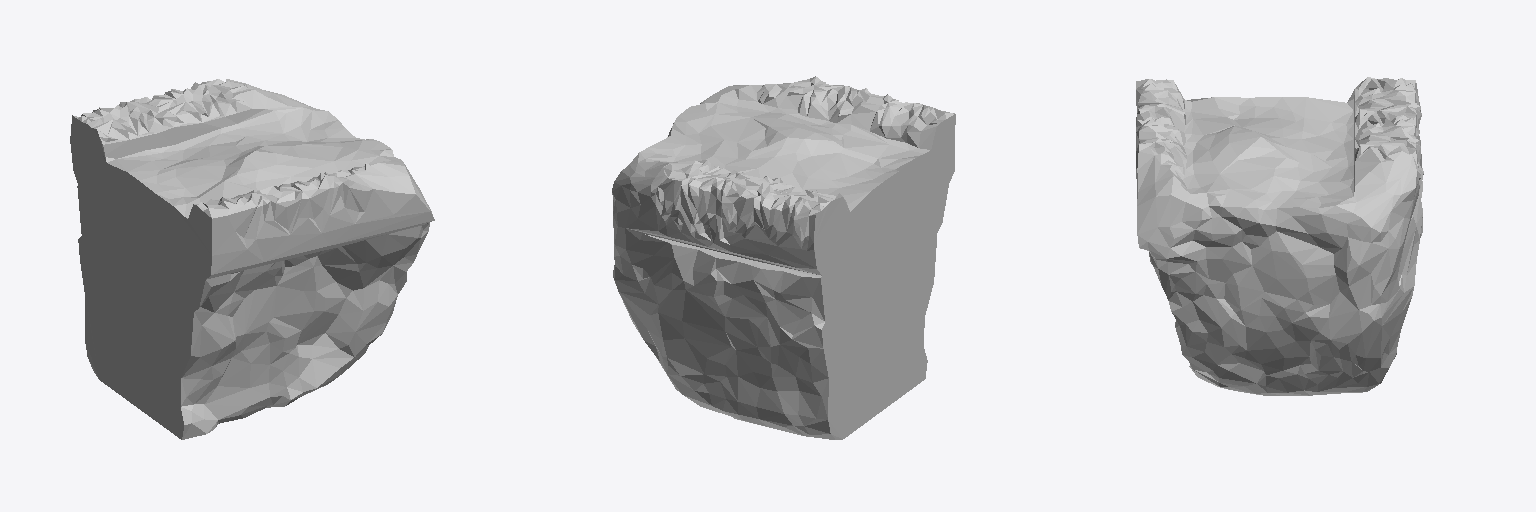
3 renders of one model, left to right at view 1: azimuth 30°, elevation 25°; view 2: azimuth 150°, elevation 25°; view 3: azimuth 270°, elevation 25°, orthographic.
Parts seen in each view (by area): view 1: base7_low:Group33463; view 2: base7_low:Group33463; view 3: base7_low:Group33463.
Part boxes in pixels (bbox=[...]): base7_low:Group33463: bbox=[70, 79, 434, 439]; base7_low:Group33463: bbox=[612, 76, 955, 439]; base7_low:Group33463: bbox=[1136, 77, 1423, 395].
Size of the model in its own units: 47.97 by 49.78 by 51.84.